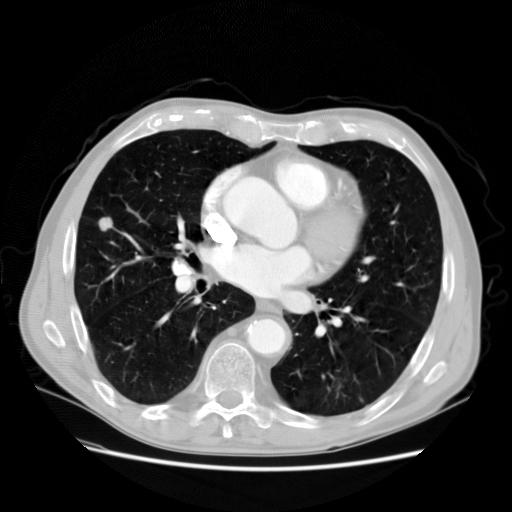nodule: (95, 213, 115, 233)
